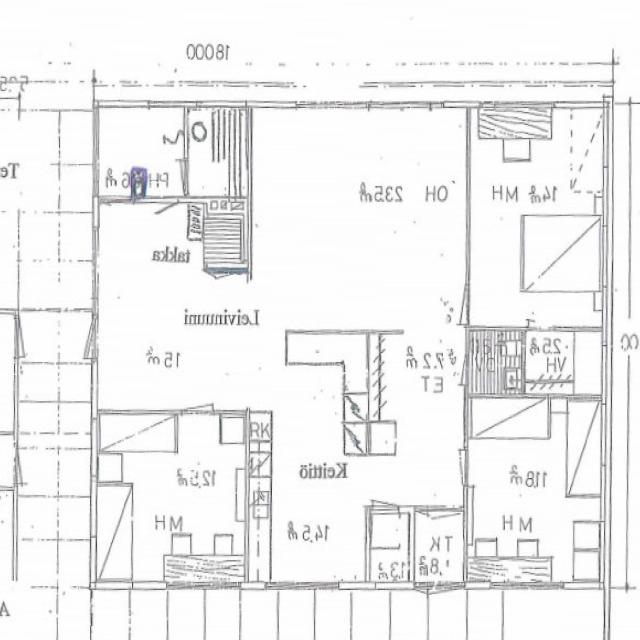door: (55, 315, 98, 357), (12, 318, 51, 358), (427, 582, 460, 628), (431, 286, 468, 324), (432, 449, 468, 485), (183, 374, 213, 413), (432, 506, 460, 545), (372, 473, 400, 512), (150, 197, 178, 236), (528, 294, 555, 331), (156, 160, 187, 192), (12, 454, 42, 484), (438, 356, 468, 385), (416, 506, 432, 530), (416, 582, 427, 602)
